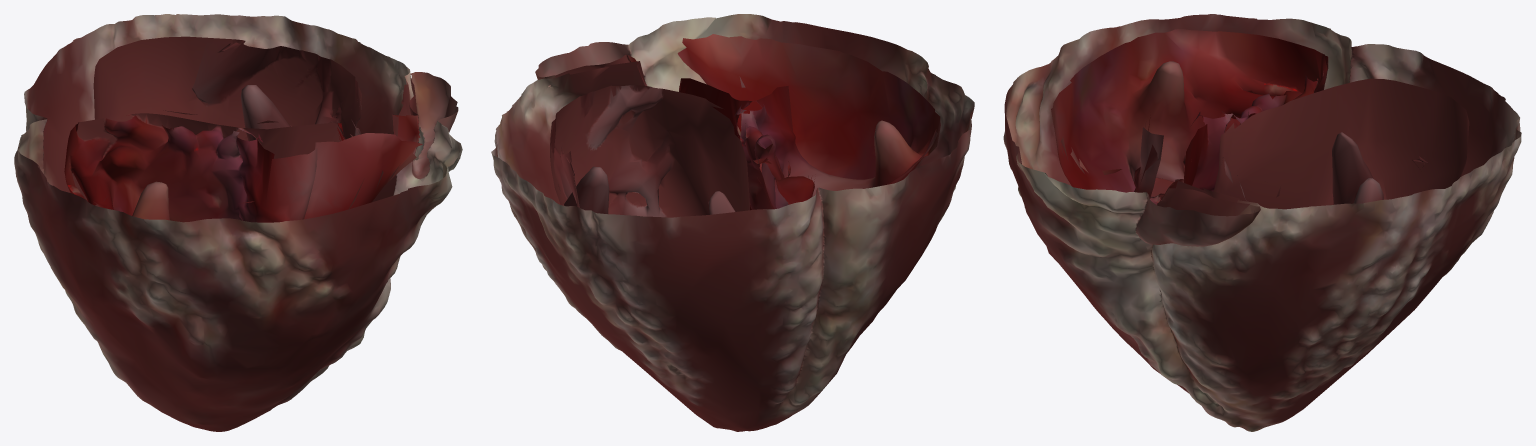
Rendered from chestLeadsHeart.fbx.
The picture shows the model from 3 angles, left to right: view 1: azimuth 30°, elevation 25°; view 2: azimuth 150°, elevation 25°; view 3: azimuth 270°, elevation 25°; orthographic projection. The views are drawn at different scales.
Visible parts, largest first — view 1: MM634_BP51951_FMA4706_Coronary_sinus821; view 2: MM634_BP51951_FMA4706_Coronary_sinus821; view 3: MM634_BP51951_FMA4706_Coronary_sinus821.
Boxes of the visible parts, x1,y1,x2,y2 form: MM634_BP51951_FMA4706_Coronary_sinus821: (14, 14, 462, 431); MM634_BP51951_FMA4706_Coronary_sinus821: (491, 14, 974, 431); MM634_BP51951_FMA4706_Coronary_sinus821: (1003, 14, 1521, 431).
Size of the model in its own units: 0.5321 by 0.576 by 0.3848.
